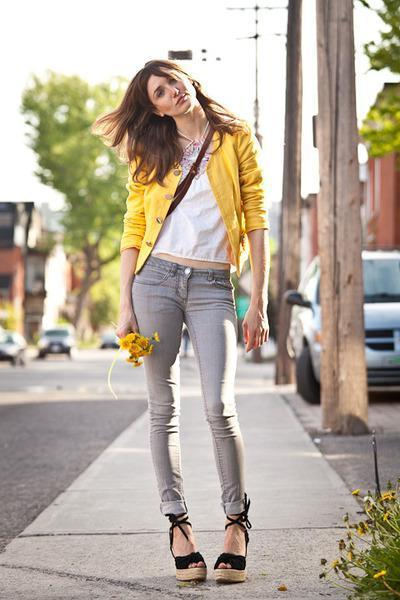jacket: (121, 114, 269, 269)
short sleeve shirt: (143, 133, 231, 259)
trousers: (125, 261, 242, 525)
